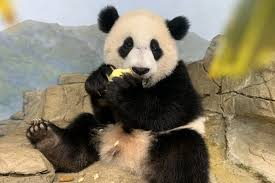panda: (27, 1, 204, 183)
